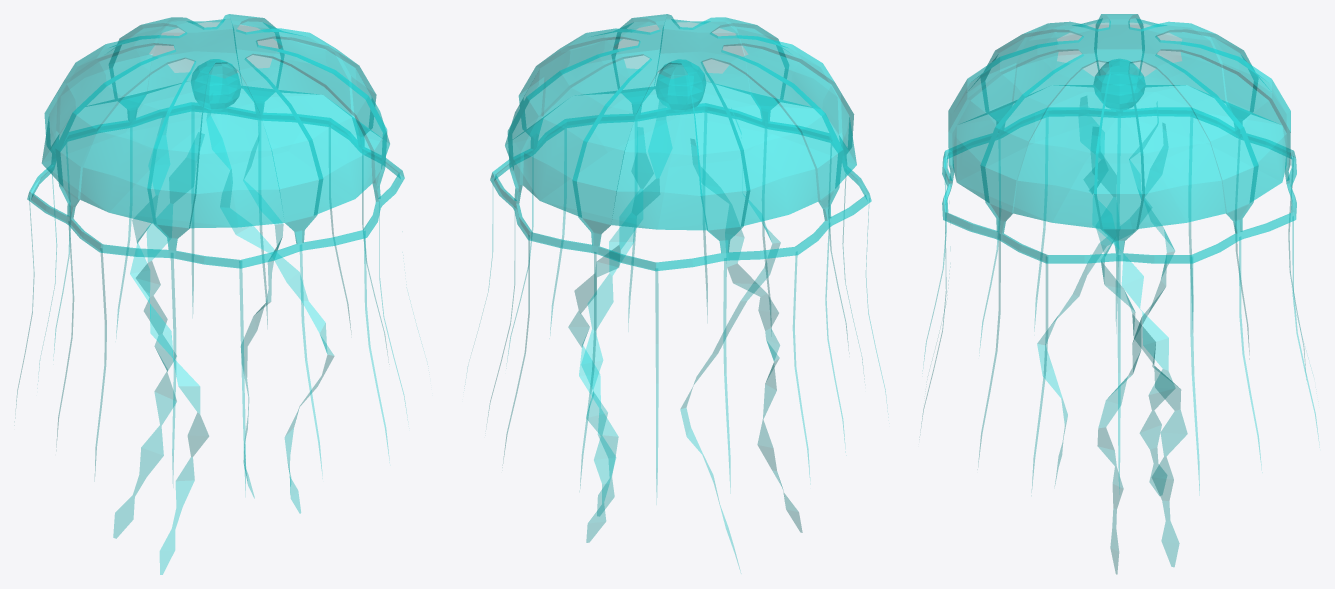
File: Jellyfish_new.fbx
3 views of the same model, side by side, from view 1: azimuth 30°, elevation 25°; view 2: azimuth 150°, elevation 25°; view 3: azimuth 270°, elevation 25° (orthographic).
Parts seen in each view (by area): view 1: Jellyfish_new; view 2: Jellyfish_new; view 3: Jellyfish_new.
Boxes of the visible parts, x1,y1,x2,y2 form: Jellyfish_new: (16,14,406,574); Jellyfish_new: (467,14,886,570); Jellyfish_new: (921,14,1318,574).
Bounding box in the file's own units: 931 × 1277 × 948.
